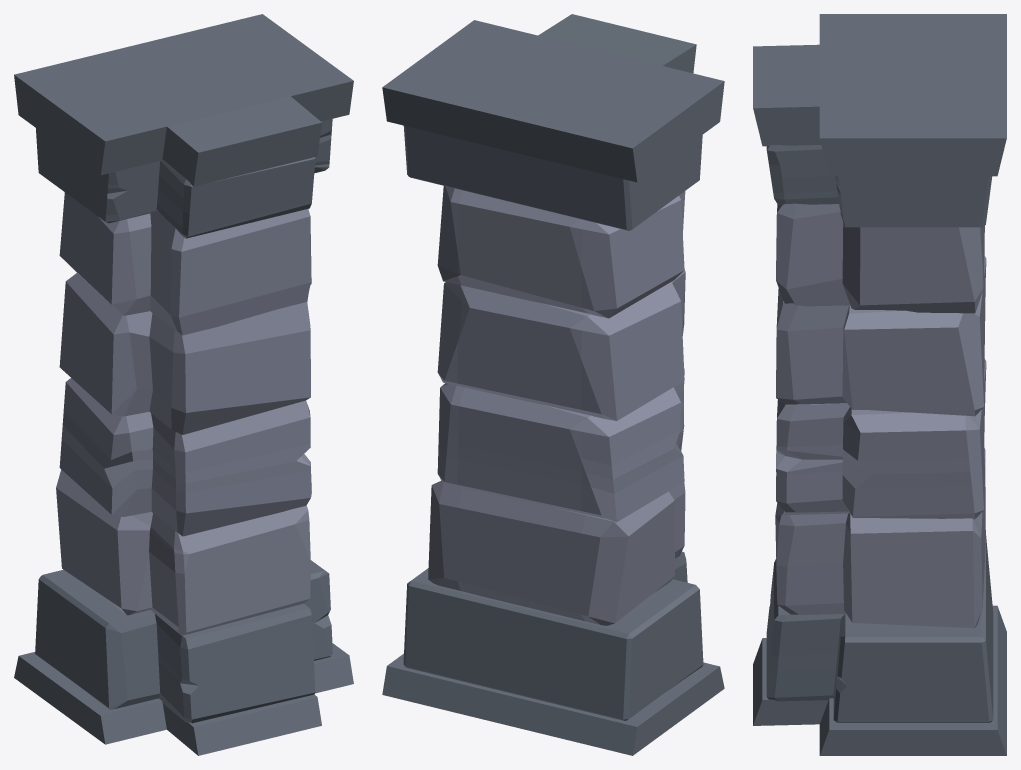
The model's file is Triple_Column.fbx.
The picture shows the model from 3 angles, left to right: view 1: azimuth 30°, elevation 25°; view 2: azimuth 150°, elevation 25°; view 3: azimuth 270°, elevation 25°; orthographic projection. The views are drawn at different scales.
Visible parts, largest first — view 1: Columna_Triple; view 2: Columna_Triple; view 3: Columna_Triple.
Boxes of the visible parts, bbox=[...] form: Columna_Triple: bbox=[14, 14, 353, 755]; Columna_Triple: bbox=[382, 14, 724, 755]; Columna_Triple: bbox=[753, 14, 1006, 755].
Bounding box in the file's own units: 220 × 512 × 190.
